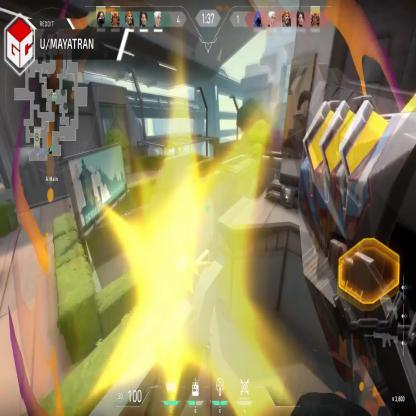enemy: (208, 233, 214, 252)
enemy_head: (211, 233, 212, 236)
